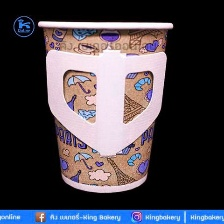paper_cup: (31, 14, 178, 198)
